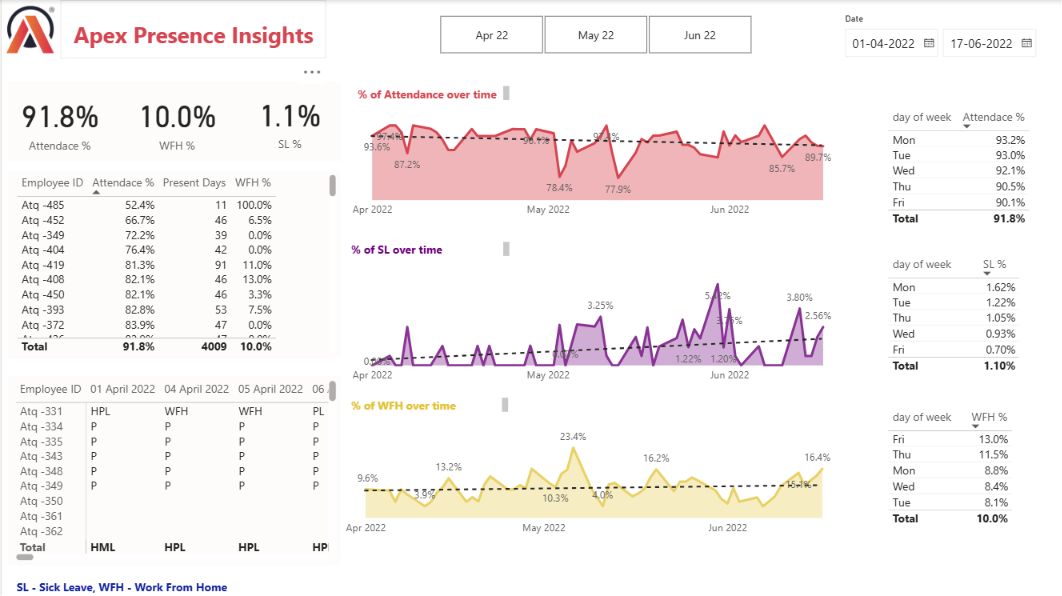

What the dashboard file says about the page in this screenshot:
{"tool":"powerbi","page":{"name":"Presence Insights","canvas":[1280,720],"ordinal":0},"visuals":[{"type":"textbox","box":[7.8,205.6,399.9,225.5],"z":0},{"type":"textbox","box":[7.8,453.3,399.8,227.6],"z":1000},{"type":"textbox","box":[7.8,98,399.9,95.4],"z":3000},{"type":"tableEx","fields":{"Values":["Final Data.Employee ID","Measures (2).Attendace %","Measures (2).Present Days","Measures (2).WFH %"]},"box":[12.6,205.2,394.9,225.7],"z":4000},{"type":"slicer","fields":{"Values":["Final Data.Date"]},"box":[1002.1,11,269.2,64.9],"z":5000},{"type":"slicer","fields":{"Values":["Final Data.MMM YY"]},"box":[502.4,12.4,423.7,59.4],"z":6000},{"type":"areaChart","fields":{"Category":["Final Data.MMM YY","Final Data.Date"],"Y":["Measures (2).WFH %"]},"box":[408.6,501,608.7,153.2],"z":7000},{"type":"areaChart","fields":{"Category":["Final Data.WeekNo","Final Data.Date"],"Y":["Measures (2).Attendace %"]},"box":[415.5,128.4,601.8,142.2],"z":8000},{"type":"card","fields":{"Values":["Measures (2).Attendace %"]},"box":[7.8,98,124,96.3],"z":9000},{"type":"card","fields":{"Values":["Measures (2).WFH %"]},"box":[141.4,98,138.8,96.3],"z":10000},{"type":"areaChart","fields":{"Category":["Final Data.MMM YY","Final Data.Date"],"Y":["Measures (2).SL %"]},"box":[415.5,317.5,601.8,153.2],"z":11000},{"type":"image","box":[0,0,70,71],"z":12000},{"type":"card","fields":{"Values":["Measures (2).SL %"]},"box":[286.3,97.2,121.4,96.3],"z":13000},{"type":"textbox","box":[70.3,0,320.1,71.1],"z":14000},{"type":"textbox","box":[415.5,98,200.1,27.6],"z":15000},{"type":"textbox","box":[415.5,285.7,200.1,27.6],"z":16000},{"type":"textbox","box":[415.5,473.4,198.8,27.6],"z":17000},{"type":"pivotTable","fields":{"Rows":["Final Data.Employee ID"],"Columns":["Final Data.Date"],"Values":["Min(Final Data.Value)"]},"box":[11.7,453.3,395.9,227.6],"z":18000},{"type":"textbox","box":[13.6,691.6,289.8,28.2],"z":19000},{"type":"tableEx","fields":{"Values":["Final Data.day of week","Measures (2).Attendace %"]},"box":[1061.4,125.6,209.8,160.1],"z":20000},{"type":"tableEx","fields":{"Values":["Final Data.day of week","Measures (2).SL %"]},"box":[1061.4,303.7,191.9,167],"z":21000},{"type":"tableEx","fields":{"Values":["Final Data.day of week","Measures (2).WFH %"]},"box":[1061.4,487.2,169.8,167],"z":22000}]}

Visuals, with their boxes in screenshot pixels (x1, y1, x2, y2), scaled from the page's 1280x720 canvas onto the 1062x596 screenshot:
textbox: crop(6, 170, 338, 357)
textbox: crop(6, 375, 338, 564)
textbox: crop(6, 81, 338, 160)
tableEx - Final Data.Employee ID x Measures (2).Attendace %: crop(10, 170, 338, 357)
slicer - Final Data.Date: crop(831, 9, 1055, 63)
slicer - Final Data.MMM YY: crop(417, 10, 768, 59)
areaChart - Final Data.MMM YY x Final Data.Date: crop(339, 415, 844, 542)
areaChart - Final Data.WeekNo x Final Data.Date: crop(345, 106, 844, 224)
card - Measures (2).Attendace %: crop(6, 81, 109, 161)
card - Measures (2).WFH %: crop(117, 81, 232, 161)
areaChart - Final Data.MMM YY x Final Data.Date: crop(345, 263, 844, 390)
image: crop(0, 0, 58, 59)
card - Measures (2).SL %: crop(238, 80, 338, 160)
textbox: crop(58, 0, 324, 59)
textbox: crop(345, 81, 511, 104)
textbox: crop(345, 236, 511, 259)
textbox: crop(345, 392, 510, 415)
pivotTable - Final Data.Employee ID x Final Data.Date: crop(10, 375, 338, 564)
textbox: crop(11, 572, 252, 595)
tableEx - Final Data.day of week x Measures (2).Attendace %: crop(881, 104, 1055, 236)
tableEx - Final Data.day of week x Measures (2).SL %: crop(881, 251, 1040, 390)
tableEx - Final Data.day of week x Measures (2).WFH %: crop(881, 403, 1022, 542)
